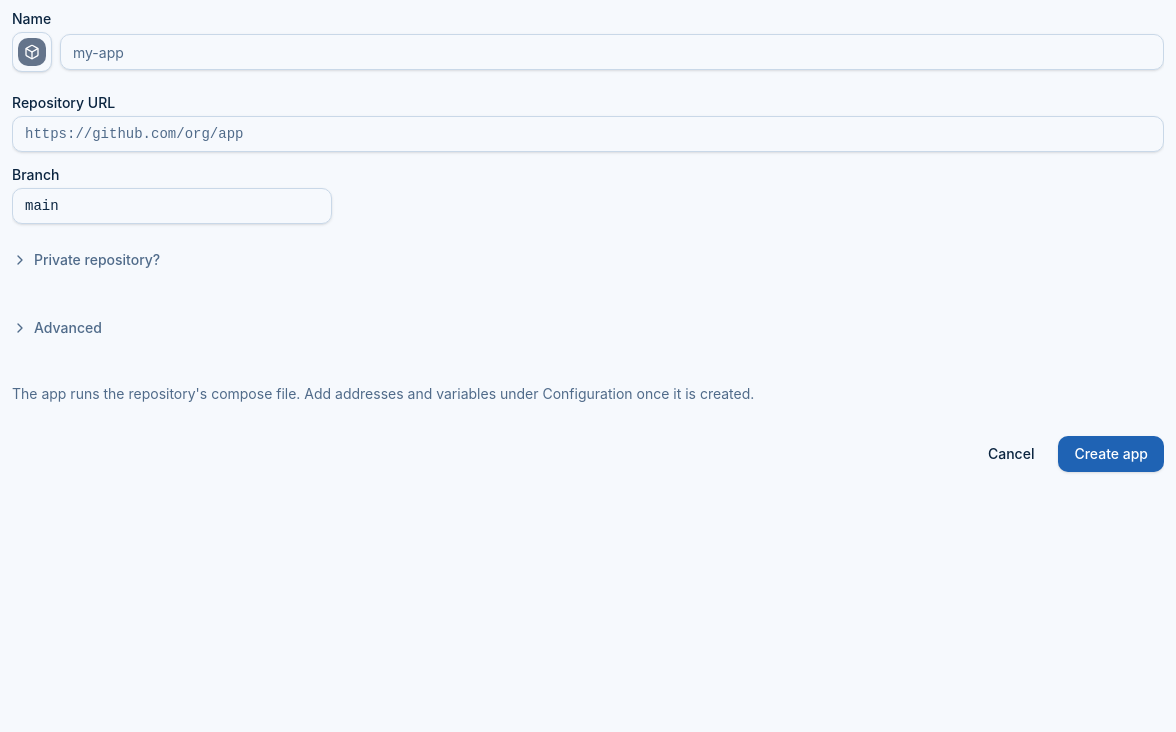
it: GitFlow › keeps a failed create on the form, showing the agent's last line
The image size is (1176, 732).
Type "shop" into the field labelled "Name" at (612, 52), box [60,34,1164,70]
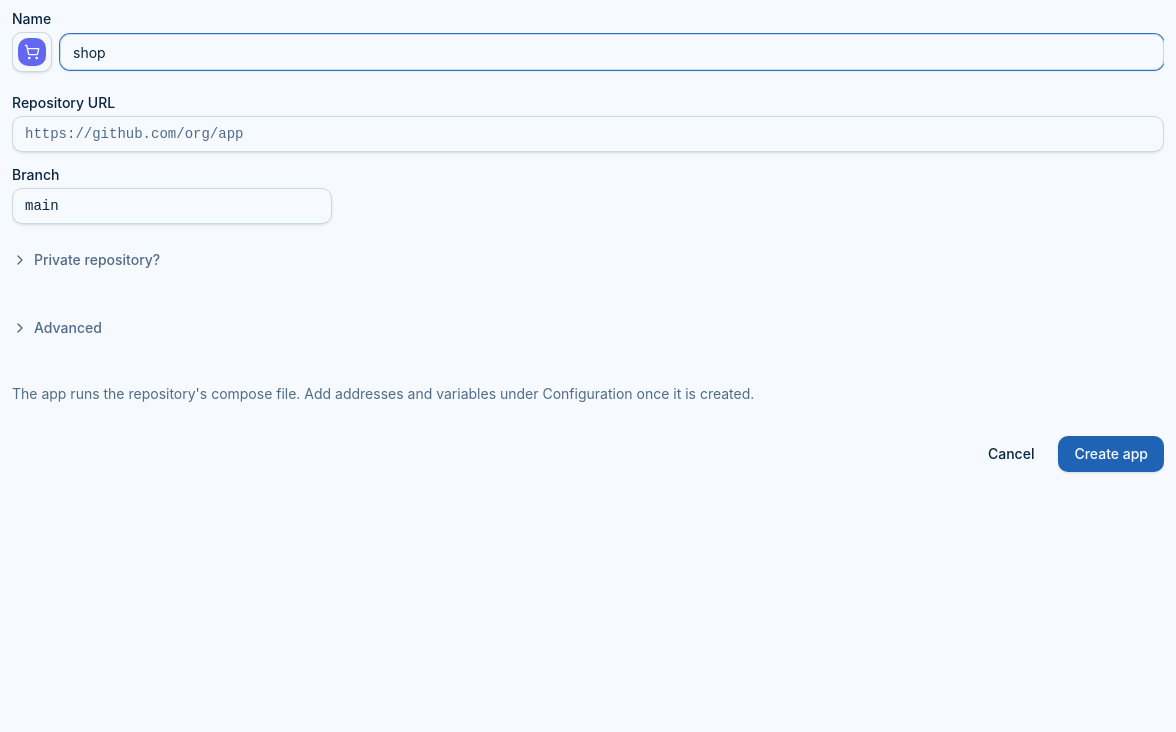
Type "https://github.com/acme/none" into the field labelled "Repository URL" at (588, 134), box [12,116,1164,152]
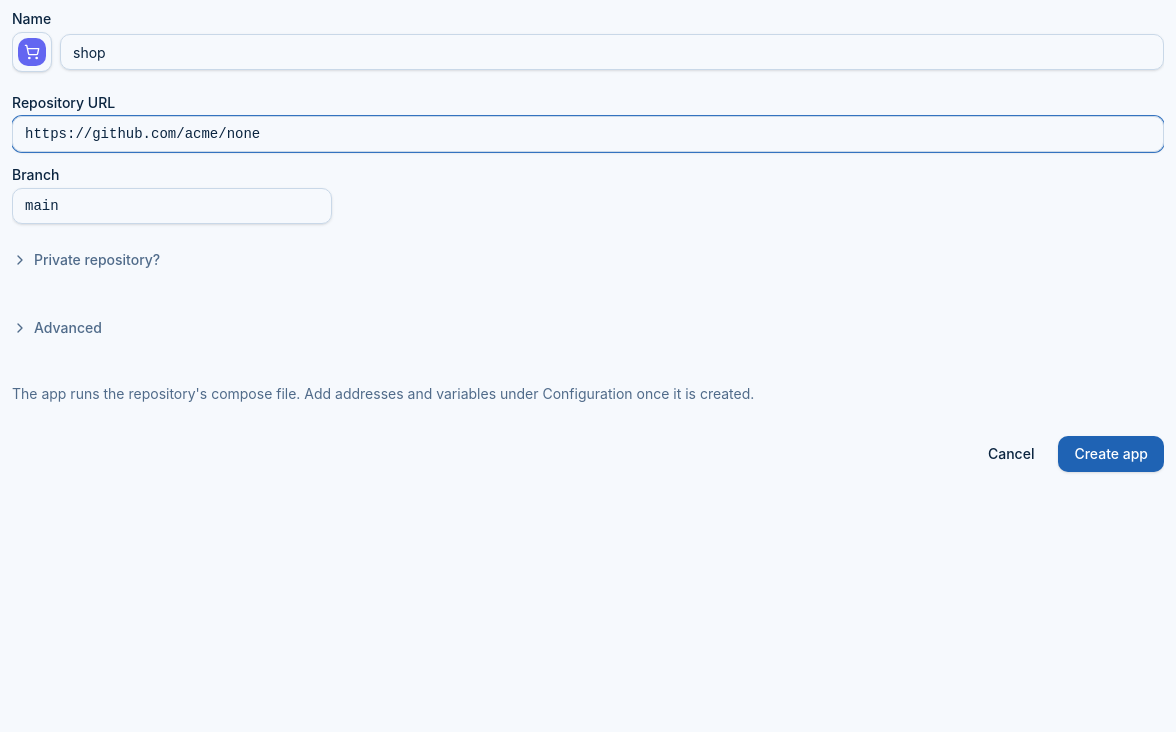
Click the button "Create app" at (1111, 454), box [1058,436,1164,472]
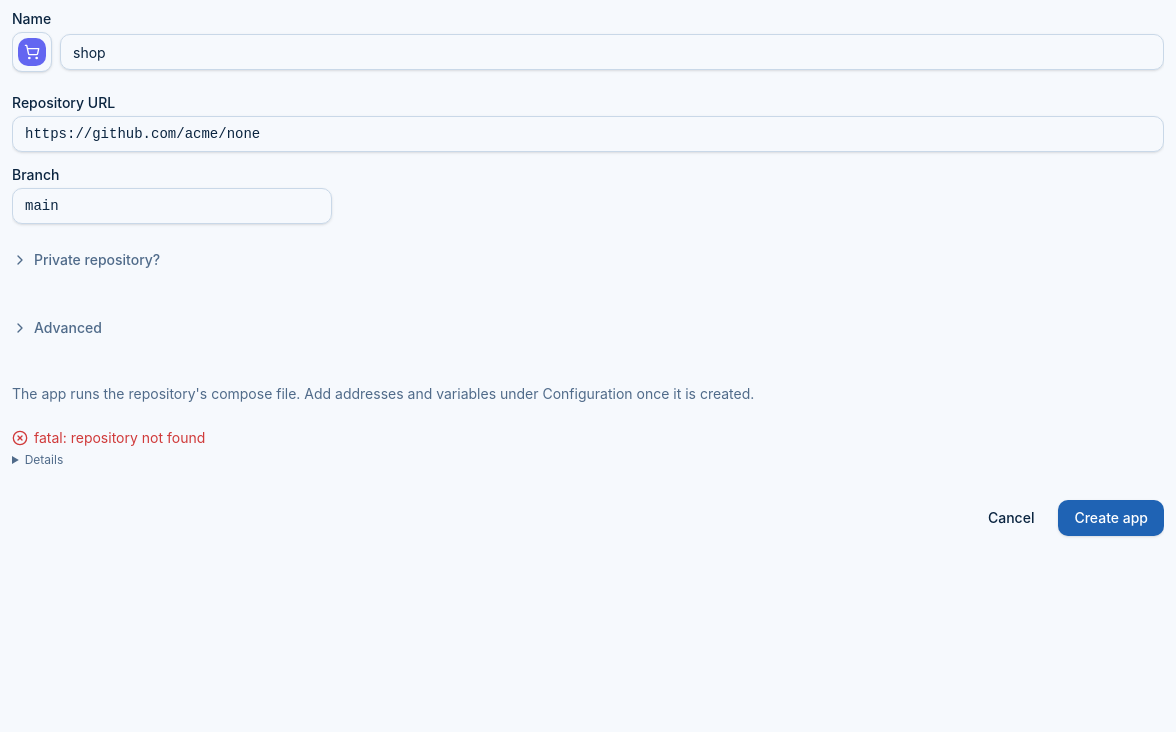
Check: the button "Create app" is enabled, box [1058,500,1164,536]
Check: the text "fatal: repository not found" is shown, box [34,428,205,448]
